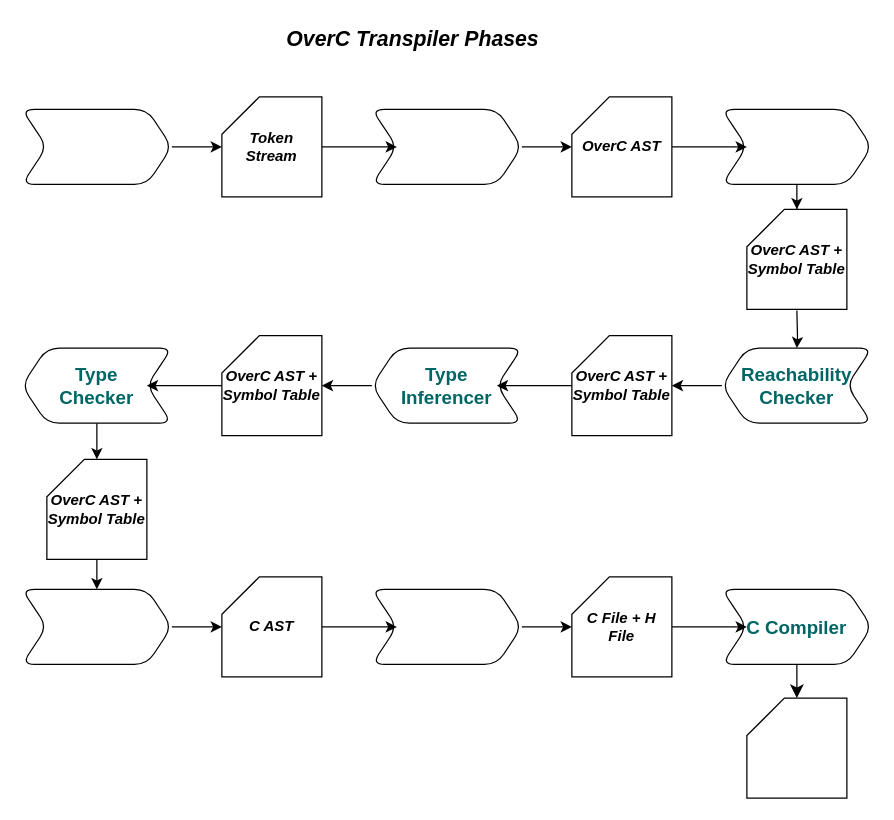
Image size: 894x820. Some labels were removed from this diagram. Each missing label, with the box of its shape:
C Code Generator: (371, 588, 522, 664)
Executable: (746, 697, 847, 798)
Lexer: (21, 108, 172, 184)
Parser: (371, 108, 522, 184)
Symbol Mapper: (721, 108, 872, 184)
Transpiler: (21, 588, 172, 664)
